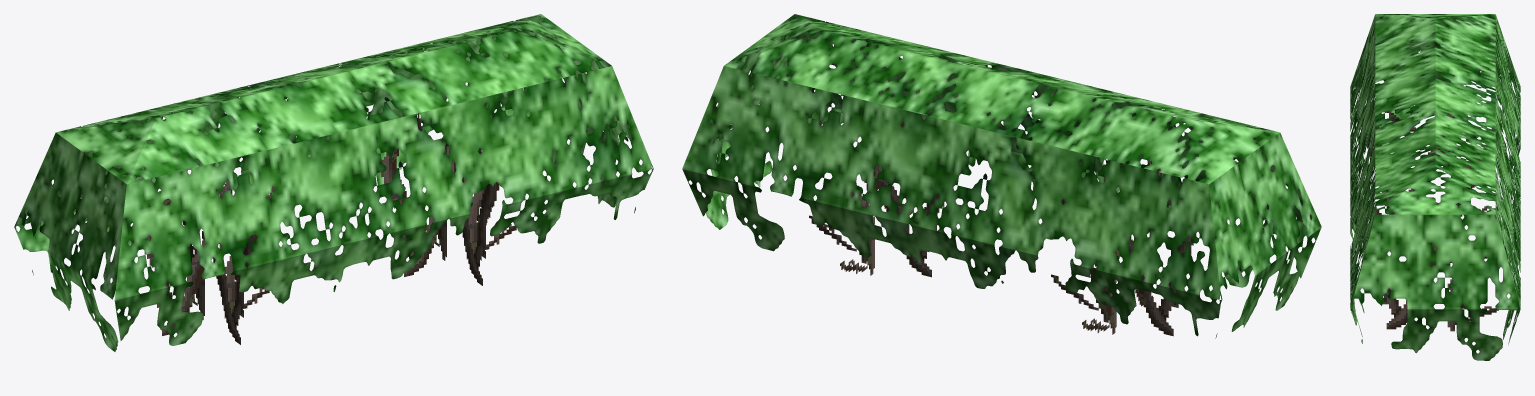
Rendered from bush_long_single_roots_spring.fbx.
3 views of the same model, side by side, from view 1: azimuth 30°, elevation 25°; view 2: azimuth 150°, elevation 25°; view 3: azimuth 270°, elevation 25° (orthographic). The views are drawn at different scales.
Parts seen in each view (by area): view 1: bush_long_single_roots_spring; view 2: bush_long_single_roots_spring; view 3: bush_long_single_roots_spring.
Boxes of the visible parts, left/top/right/bottom form: bush_long_single_roots_spring: left=14, top=14, right=653, bottom=351; bush_long_single_roots_spring: left=682, top=14, right=1321, bottom=338; bush_long_single_roots_spring: left=1350, top=14, right=1520, bottom=360.
Bounding box in the file's own units: 223 × 87.65 × 71.91.
2 materials, 2 textured.
